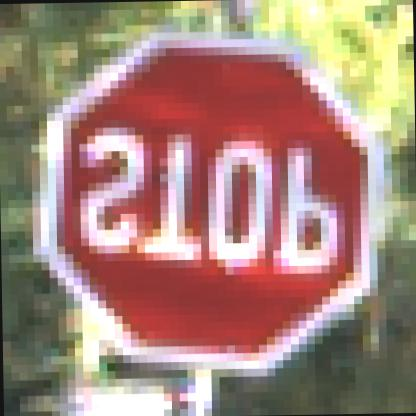stop: (13, 21, 406, 383)
